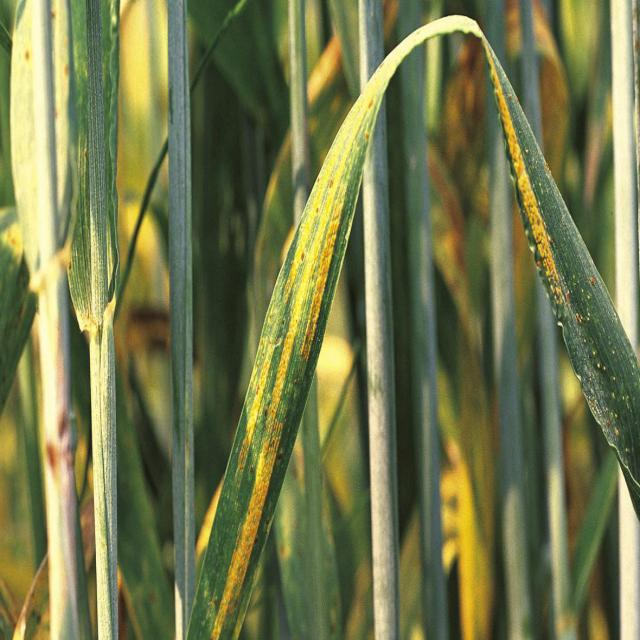wheat-yellowrust: (185, 16, 640, 640)
